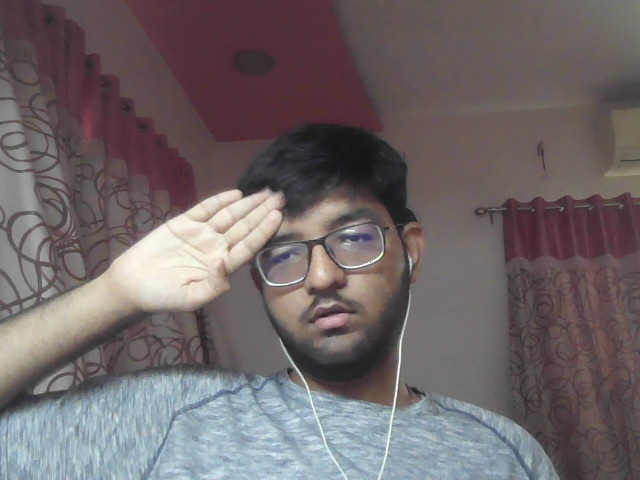નમસ્તે: (76, 176, 311, 315)
